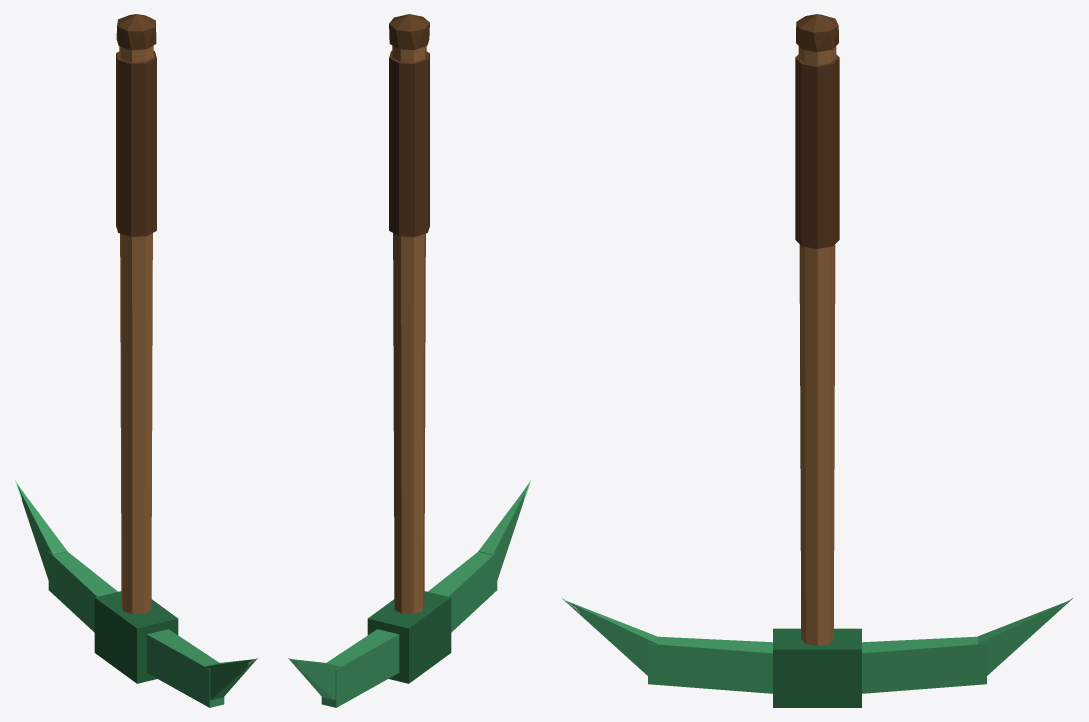
The model's file is held_adamant_pickaxe.glb.
3 renders of one model, left to right at view 1: azimuth 30°, elevation 25°; view 2: azimuth 150°, elevation 25°; view 3: azimuth 270°, elevation 25°, orthographic. The views are drawn at different scales.
Visible parts, largest first — view 1: held_adamant_pickaxe; view 2: held_adamant_pickaxe; view 3: held_adamant_pickaxe.
Boxes of the visible parts, box(x1,y1,x2,y2) form: held_adamant_pickaxe: box(14, 14, 257, 707); held_adamant_pickaxe: box(288, 14, 531, 707); held_adamant_pickaxe: box(562, 14, 1072, 707).
Size of the model in its own units: 0.056 by 0.849 by 0.576.
